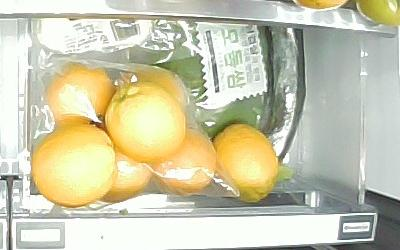orange: (31, 126, 117, 207), (107, 82, 188, 160), (215, 125, 280, 202)
orange_vinyl: (45, 60, 115, 130), (159, 127, 219, 197), (98, 148, 154, 202)
